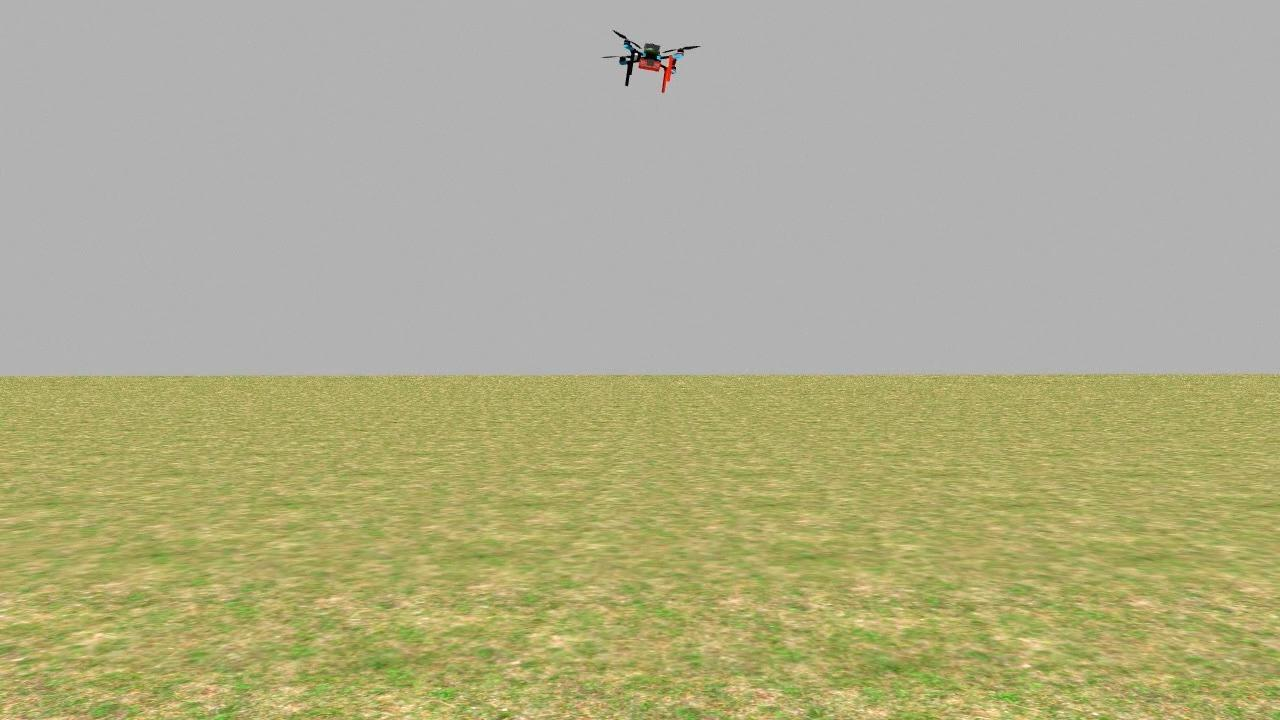UAV: (596, 29, 702, 98)
